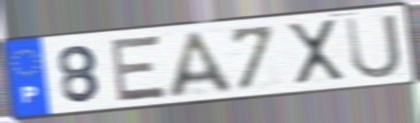7: (229, 22, 278, 93)
8: (56, 44, 104, 106)
A: (165, 29, 240, 101)
E: (109, 33, 170, 105)
U: (342, 11, 405, 82)
X: (283, 17, 349, 88)
